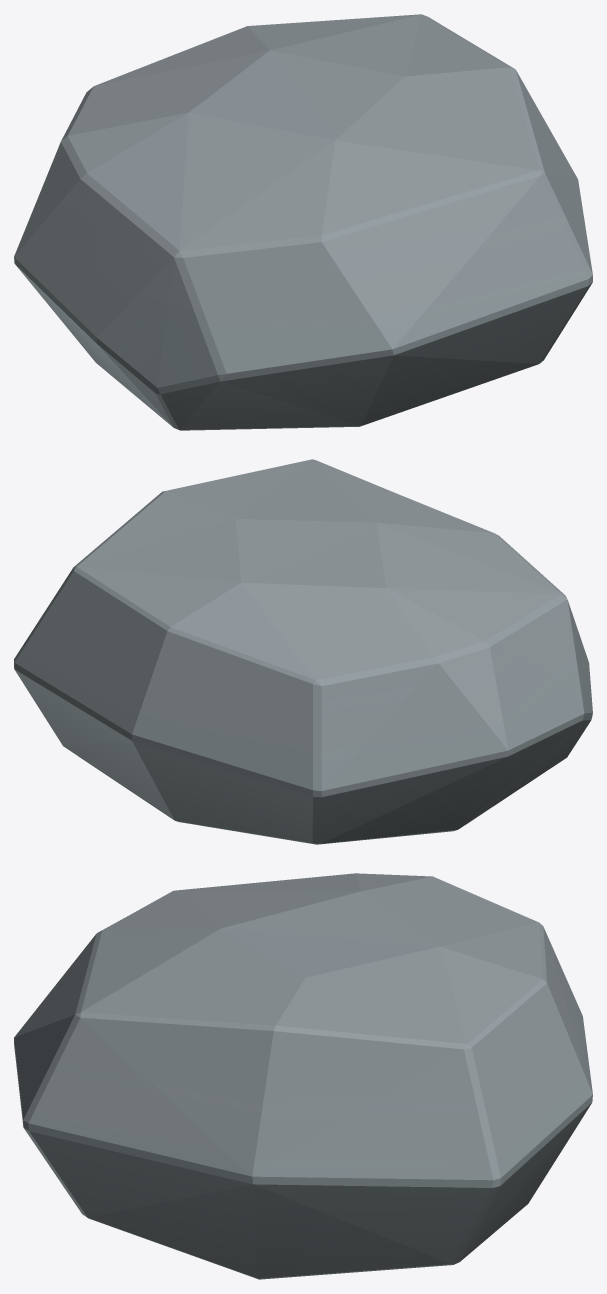
Rendered from rock_pebble.glb.
3 views of the same model, one above another, from view 1: azimuth 30°, elevation 25°; view 2: azimuth 150°, elevation 25°; view 3: azimuth 270°, elevation 25° (orthographic). The views are drawn at different scales.
Parts seen in each view (by area): view 1: rock_pebble; view 2: rock_pebble; view 3: rock_pebble.
Part boxes in pixels (x1,y1,x2,y2): rock_pebble: [14, 14, 592, 430]; rock_pebble: [14, 459, 592, 844]; rock_pebble: [14, 873, 592, 1279].
Bounding box in the file's own units: 0.5744 × 0.3 × 0.5631.
Materials: 1 (1 with a texture image).
